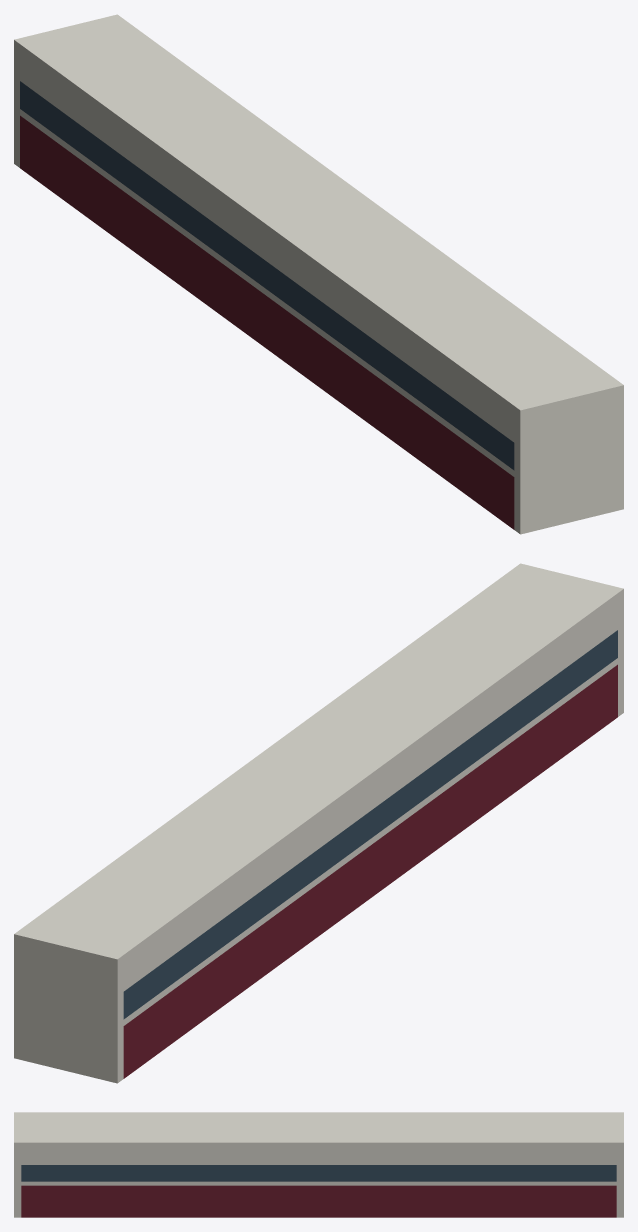
Rendered from middle_4_far.fbx.
The picture shows the model from 3 angles, top to bottom: view 1: azimuth 30°, elevation 25°; view 2: azimuth 150°, elevation 25°; view 3: azimuth 270°, elevation 25°; orthographic projection. The views are drawn at different scales.
Visible parts, largest first — view 1: 21_middle_4_far; view 2: 21_middle_4_far; view 3: 21_middle_4_far.
Boxes of the visible parts, x1,y1,x2,y2 form: 21_middle_4_far: (14,14,623,534); 21_middle_4_far: (14,563,623,1083); 21_middle_4_far: (14,1112,623,1217).
Bounding box in the file's own units: 2.96 × 3.38 × 25.
